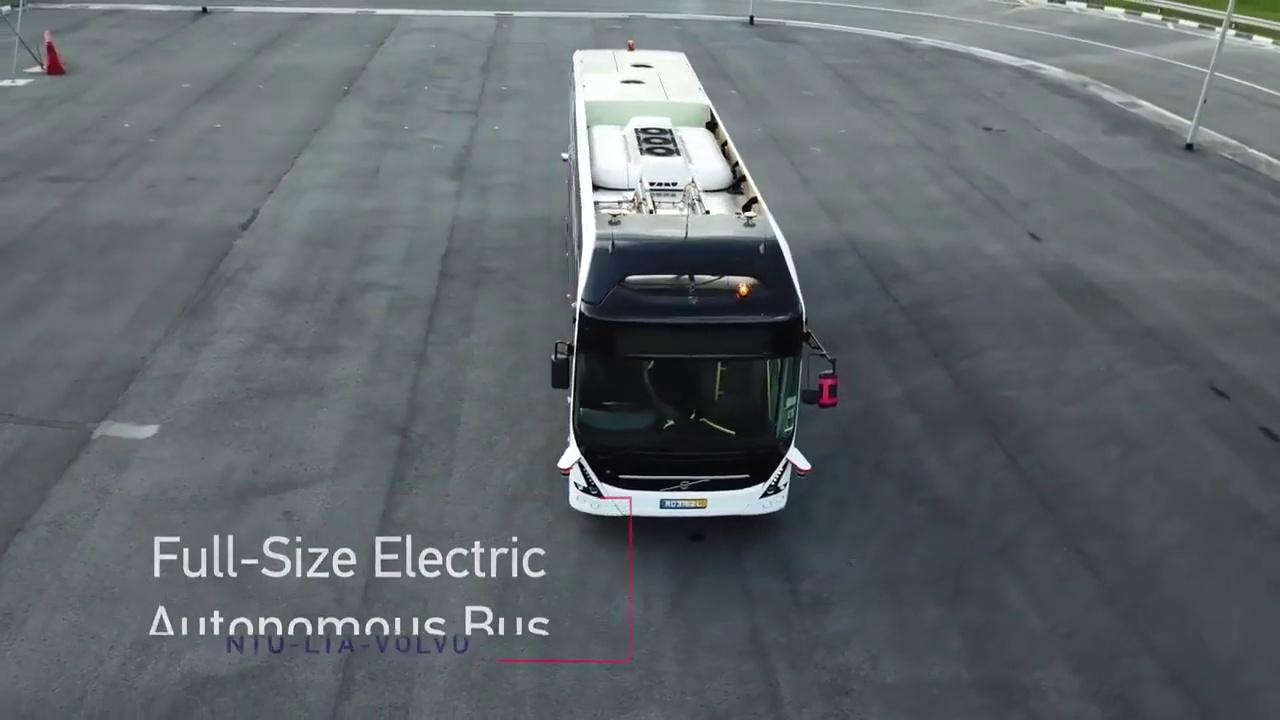Bus: (549, 41, 839, 519)
